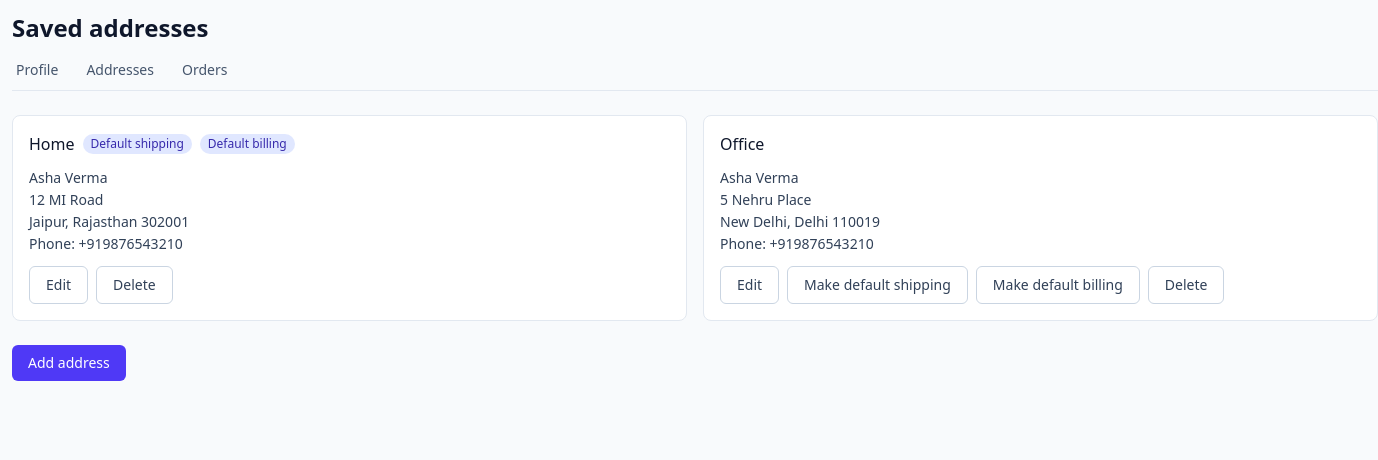
Scenario: AddressesPage › makes an address the default shipping address
Click the button with aria-label "Make Office the default shipping address".
click(878, 285)  # box [787,266,968,304]
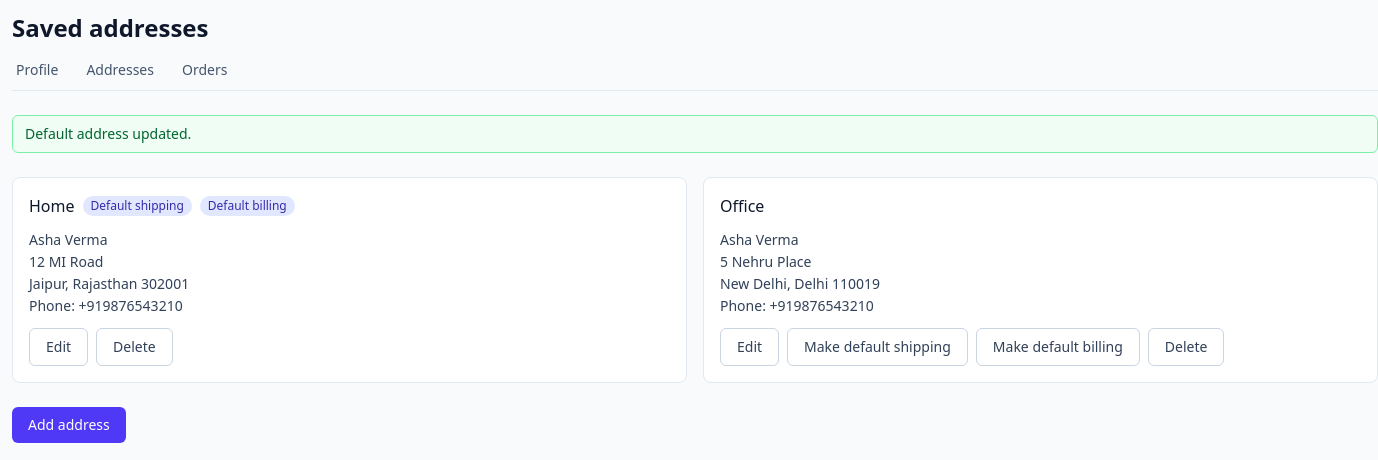
Result: the text "Default address updated." is shown at [12,115,1377,153]
